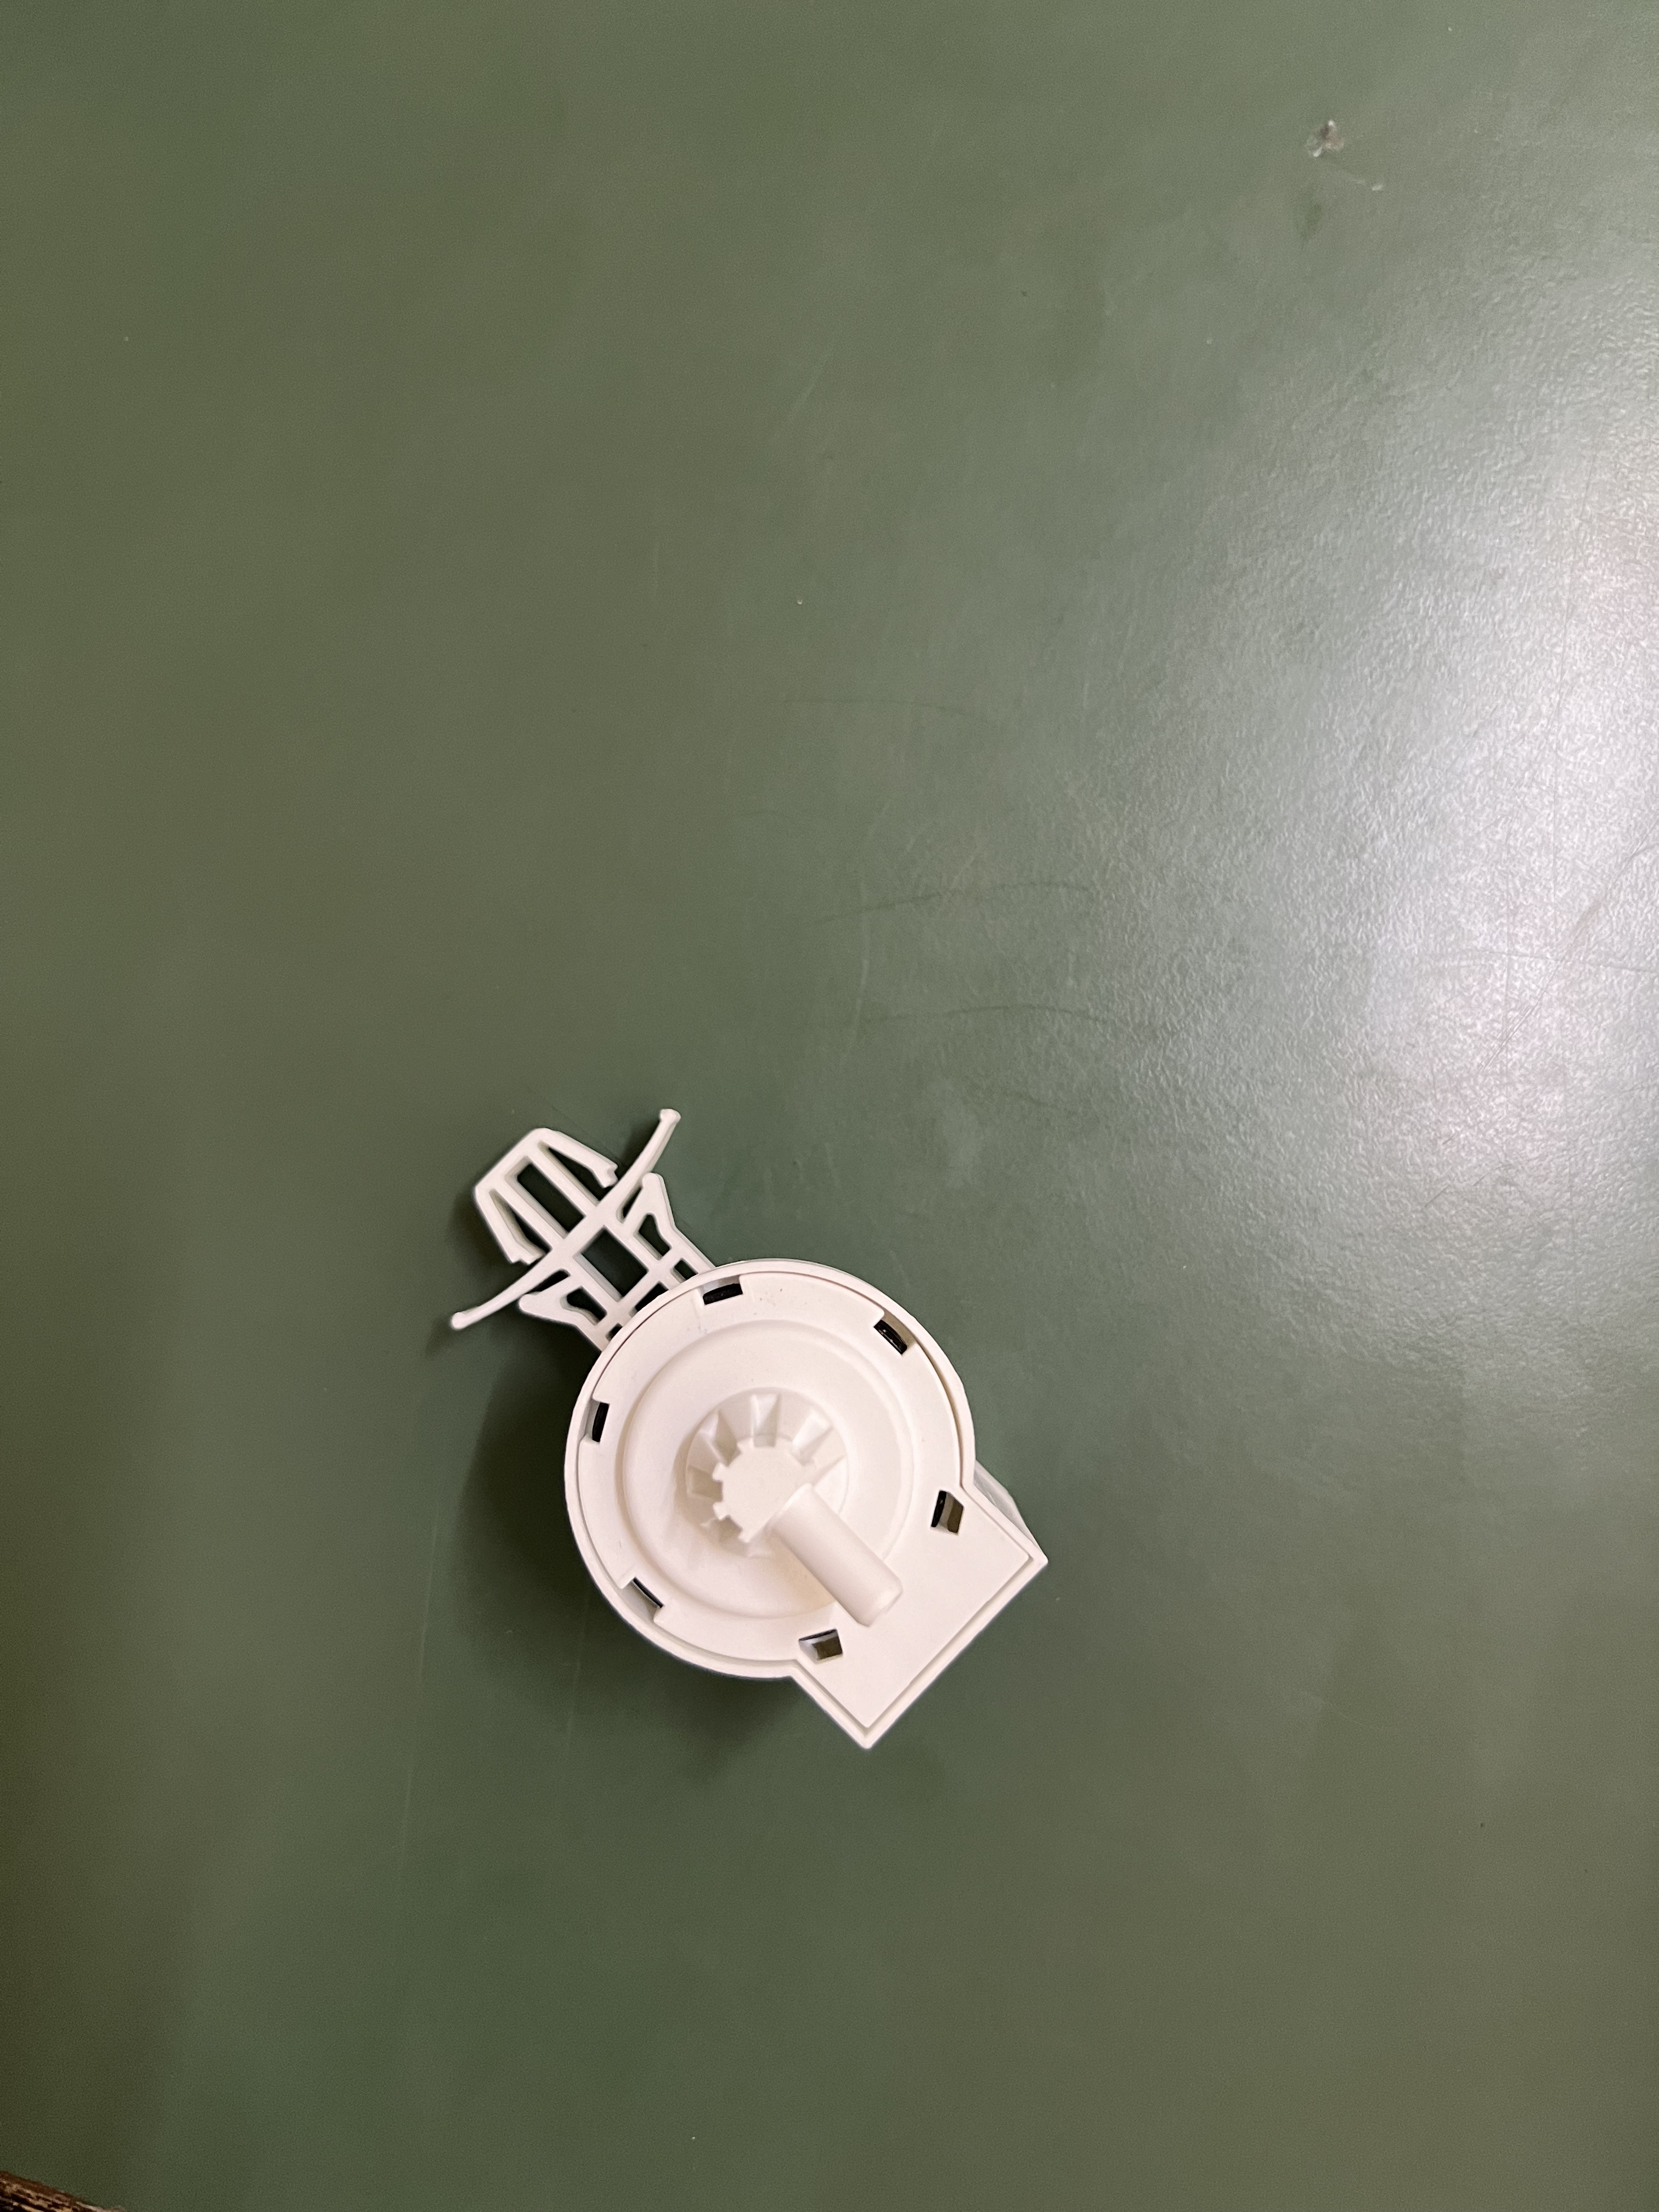pressure_switch_1: (401, 1068, 1061, 1757)
